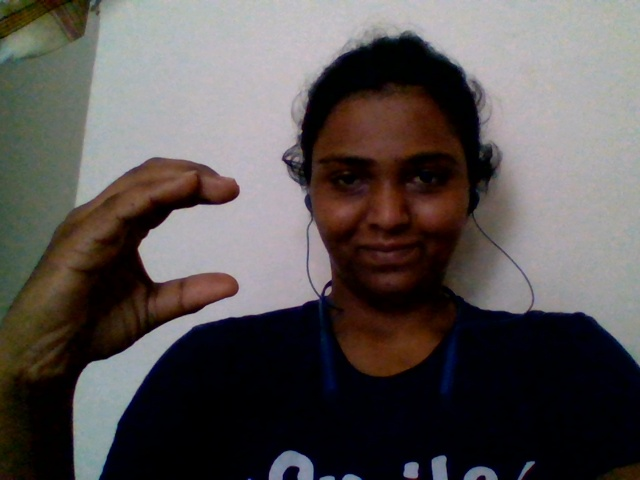No: (20, 123, 279, 399)
